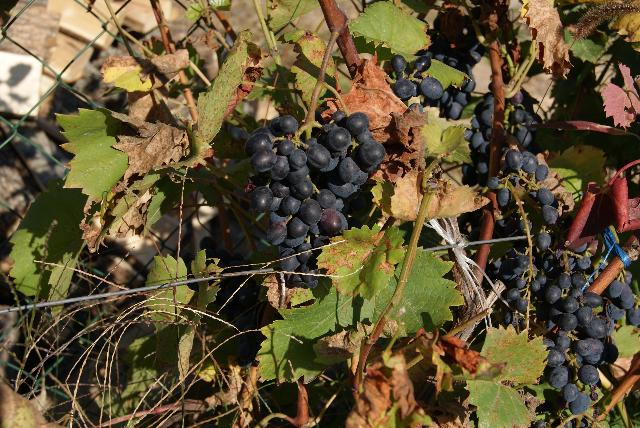grapes: (495, 231, 640, 416), (245, 112, 385, 272)
